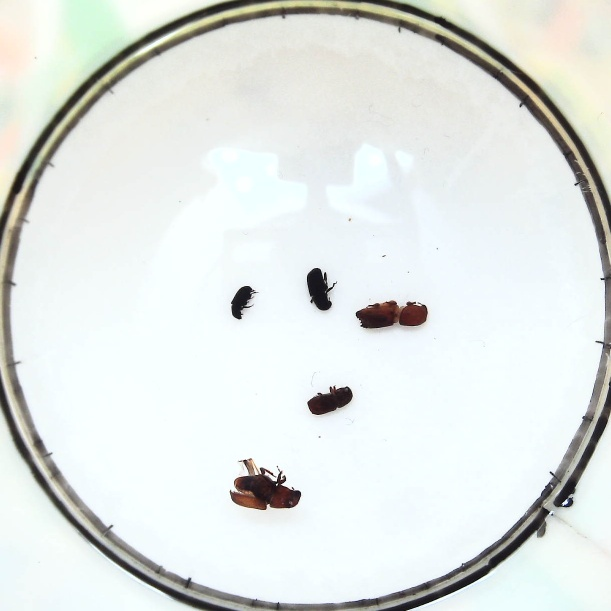armandi: (305, 270, 335, 312)
boerner: (351, 299, 429, 328)
coleoptera: (229, 286, 255, 318)
leconte: (229, 455, 301, 514)
linnaeus: (304, 383, 354, 416)
